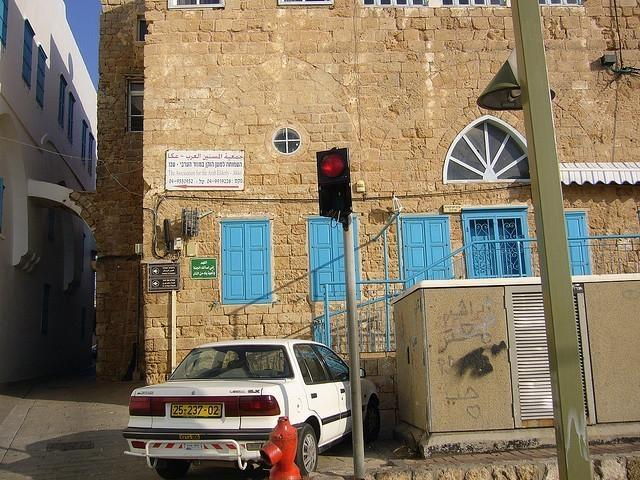car: (122, 337, 385, 475)
